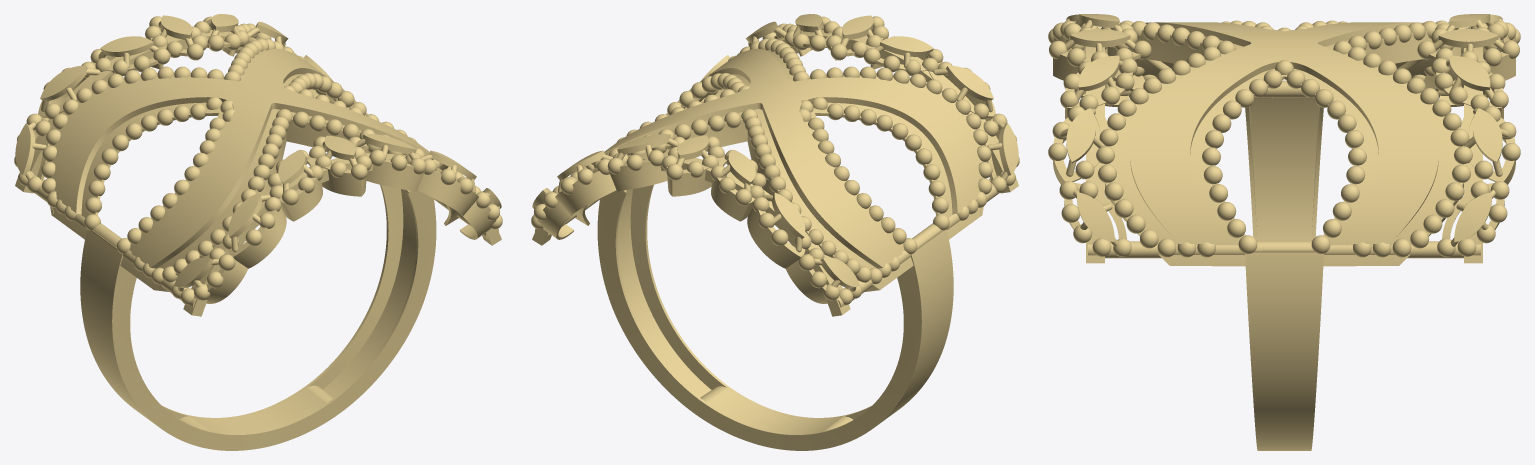
The model's file is review.glb.
The picture shows the model from 3 angles, left to right: view 1: azimuth 30°, elevation 25°; view 2: azimuth 150°, elevation 25°; view 3: azimuth 270°, elevation 25°; orthographic projection. The views are drawn at different scales.
Parts seen in each view (by area): view 1: native-object-0018-30289be4-d9ed-4879-aa7b-20c8b9a15c85, native-object-0001-143a1537-ca62-4224-838e-3280314b2e29, native-object-0000-cd1df0d7-0513-4446-b57e-56f7347ba600, native-object-0027-0f98a204-e6e0-415b-ad83-2406871c0f79, native-object-0028-14afe589-5f1f-43d8-8ac8-52a2d9df34da, native-object-0095-c86a9043-f430-42dc-a18b-efdd4eb91828, native-object-0020-1f9d341b-c75f-4a36-b685-7dce0ca236e6, native-object-0096-a4a88c9f-d3a9-447c-85f9-f7a6c35f6801, native-object-0062-ac658682-cb10-464d-b967-90aee491073c, native-object-0026-8367fcc6-3f49-4c0f-8747-a0d5903019f0, native-object-0047-5f7d0178-82ac-4b8b-ba75-060cc625595e, native-object-0097-cced0f3e-3367-46c6-908e-382c52949bf6 (+7 smaller); view 2: native-object-0018-30289be4-d9ed-4879-aa7b-20c8b9a15c85, native-object-0001-143a1537-ca62-4224-838e-3280314b2e29, native-object-0000-cd1df0d7-0513-4446-b57e-56f7347ba600, native-object-0026-8367fcc6-3f49-4c0f-8747-a0d5903019f0, native-object-0029-fd21630c-6044-4d76-b410-01b8051f4608, native-object-0096-a4a88c9f-d3a9-447c-85f9-f7a6c35f6801, native-object-0019-257a2370-b79c-4ee5-aad1-9bd16b21d6ff, native-object-0095-c86a9043-f430-42dc-a18b-efdd4eb91828, native-object-0047-5f7d0178-82ac-4b8b-ba75-060cc625595e, native-object-0027-0f98a204-e6e0-415b-ad83-2406871c0f79, native-object-0062-ac658682-cb10-464d-b967-90aee491073c, native-object-0097-cced0f3e-3367-46c6-908e-382c52949bf6 (+7 smaller); view 3: native-object-0018-30289be4-d9ed-4879-aa7b-20c8b9a15c85, native-object-0001-143a1537-ca62-4224-838e-3280314b2e29, native-object-0098-336e6953-5a5a-4e78-a578-6cabaf91c9c2, native-object-0028-14afe589-5f1f-43d8-8ac8-52a2d9df34da, native-object-0029-fd21630c-6044-4d76-b410-01b8051f4608, native-object-0019-257a2370-b79c-4ee5-aad1-9bd16b21d6ff, native-object-0020-1f9d341b-c75f-4a36-b685-7dce0ca236e6, native-object-0077-2826d996-6f9e-4af5-a10d-5d147adef42b, native-object-0092-a776d4fe-fed9-4390-9790-b593cab29ab8, native-object-0067-a414a49a-f21c-433a-bf83-1749eec2ba40, native-object-0082-ff8716af-cc81-45e6-9f2d-90808d628a56, native-object-0072-6df05308-3024-4823-9ab0-62b691757d02 (+6 smaller).
Part boxes in pixels (x1=…): native-object-0018-30289be4-d9ed-4879-aa7b-20c8b9a15c85: x1=50, y1=48, x2=442, y2=289; native-object-0001-143a1537-ca62-4224-838e-3280314b2e29: x1=80, y1=185, x2=436, y2=450; native-object-0000-cd1df0d7-0513-4446-b57e-56f7347ba600: x1=180, y1=385, x2=344, y2=450; native-object-0027-0f98a204-e6e0-415b-ad83-2406871c0f79: x1=194, y1=155, x2=366, y2=303; native-object-0028-14afe589-5f1f-43d8-8ac8-52a2d9df34da: x1=314, y1=144, x2=496, y2=239; native-object-0095-c86a9043-f430-42dc-a18b-efdd4eb91828: x1=183, y1=153, x2=501, y2=316; native-object-0020-1f9d341b-c75f-4a36-b685-7dce0ca236e6: x1=153, y1=118, x2=458, y2=291; native-object-0096-a4a88c9f-d3a9-447c-85f9-f7a6c35f6801: x1=15, y1=30, x2=256, y2=193; native-object-0062-ac658682-cb10-464d-b967-90aee491073c: x1=40, y1=65, x2=87, y2=101; native-object-0026-8367fcc6-3f49-4c0f-8747-a0d5903019f0: x1=33, y1=38, x2=202, y2=180; native-object-0047-5f7d0178-82ac-4b8b-ba75-060cc625595e: x1=228, y1=192, x2=262, y2=238; native-object-0097-cced0f3e-3367-46c6-908e-382c52949bf6: x1=18, y1=173, x2=196, y2=307; native-object-0018-30289be4-d9ed-4879-aa7b-20c8b9a15c85: x1=591, y1=48, x2=983, y2=289; native-object-0001-143a1537-ca62-4224-838e-3280314b2e29: x1=597, y1=185, x2=953, y2=450; native-object-0000-cd1df0d7-0513-4446-b57e-56f7347ba600: x1=688, y1=386, x2=853, y2=450; native-object-0026-8367fcc6-3f49-4c0f-8747-a0d5903019f0: x1=667, y1=155, x2=839, y2=303; native-object-0029-fd21630c-6044-4d76-b410-01b8051f4608: x1=537, y1=144, x2=719, y2=239; native-object-0096-a4a88c9f-d3a9-447c-85f9-f7a6c35f6801: x1=532, y1=153, x2=850, y2=316; native-object-0019-257a2370-b79c-4ee5-aad1-9bd16b21d6ff: x1=575, y1=118, x2=880, y2=291; native-object-0095-c86a9043-f430-42dc-a18b-efdd4eb91828: x1=777, y1=30, x2=1018, y2=193; native-object-0047-5f7d0178-82ac-4b8b-ba75-060cc625595e: x1=946, y1=65, x2=993, y2=101; native-object-0027-0f98a204-e6e0-415b-ad83-2406871c0f79: x1=831, y1=38, x2=1000, y2=180; native-object-0062-ac658682-cb10-464d-b967-90aee491073c: x1=771, y1=192, x2=805, y2=238; native-object-0097-cced0f3e-3367-46c6-908e-382c52949bf6: x1=837, y1=173, x2=1015, y2=307; native-object-0018-30289be4-d9ed-4879-aa7b-20c8b9a15c85: x1=1105, y1=22, x2=1463, y2=266; native-object-0001-143a1537-ca62-4224-838e-3280314b2e29: x1=1245, y1=97, x2=1323, y2=450; native-object-0098-336e6953-5a5a-4e78-a578-6cabaf91c9c2: x1=1088, y1=241, x2=1480, y2=258; native-object-0028-14afe589-5f1f-43d8-8ac8-52a2d9df34da: x1=1053, y1=46, x2=1140, y2=244; native-object-0029-fd21630c-6044-4d76-b410-01b8051f4608: x1=1428, y1=46, x2=1515, y2=244; native-object-0019-257a2370-b79c-4ee5-aad1-9bd16b21d6ff: x1=1352, y1=30, x2=1467, y2=265; native-object-0020-1f9d341b-c75f-4a36-b685-7dce0ca236e6: x1=1101, y1=30, x2=1216, y2=265; native-object-0077-2826d996-6f9e-4af5-a10d-5d147adef42b: x1=1066, y1=108, x2=1096, y2=163; native-object-0092-a776d4fe-fed9-4390-9790-b593cab29ab8: x1=1472, y1=108, x2=1502, y2=163; native-object-0067-a414a49a-f21c-433a-bf83-1749eec2ba40: x1=1077, y1=192, x2=1114, y2=242; native-object-0082-ff8716af-cc81-45e6-9f2d-90808d628a56: x1=1454, y1=192, x2=1491, y2=242; native-object-0072-6df05308-3024-4823-9ab0-62b691757d02: x1=1078, y1=55, x2=1119, y2=91.
Bounding box in the file's own units: 0.0222 × 0.0231 × 0.025.
